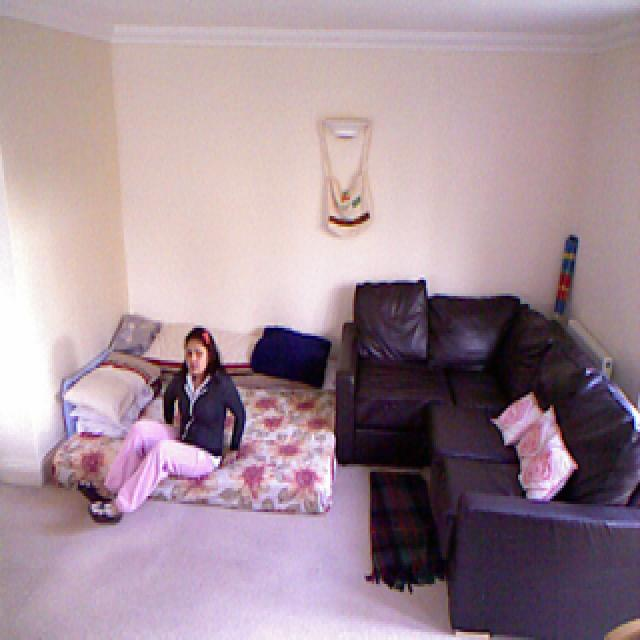sitting: (80, 330, 247, 523)
